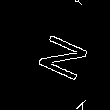N_NW: (24, 27, 86, 83)
